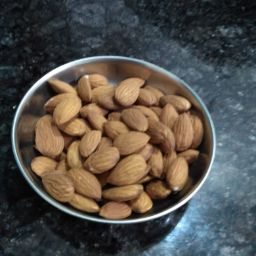Almonds: (46, 75, 203, 217), (17, 128, 211, 218), (24, 116, 213, 192), (78, 64, 162, 211), (27, 97, 154, 186), (54, 69, 207, 128)
